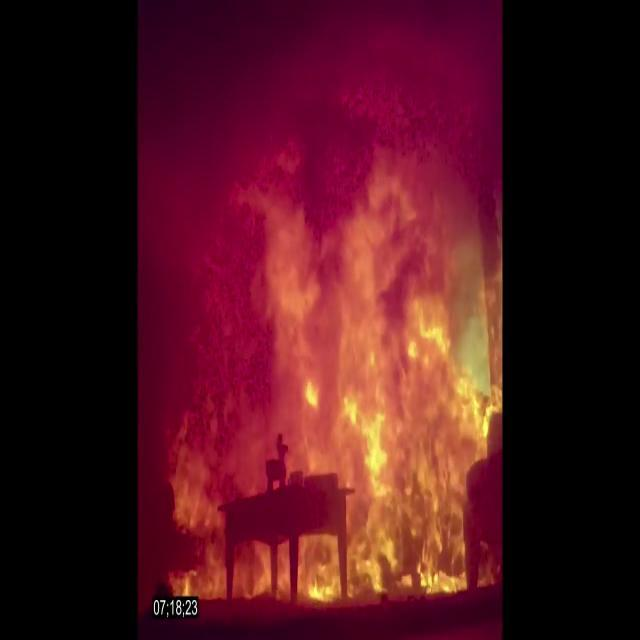Fire: (254, 166, 496, 596)
